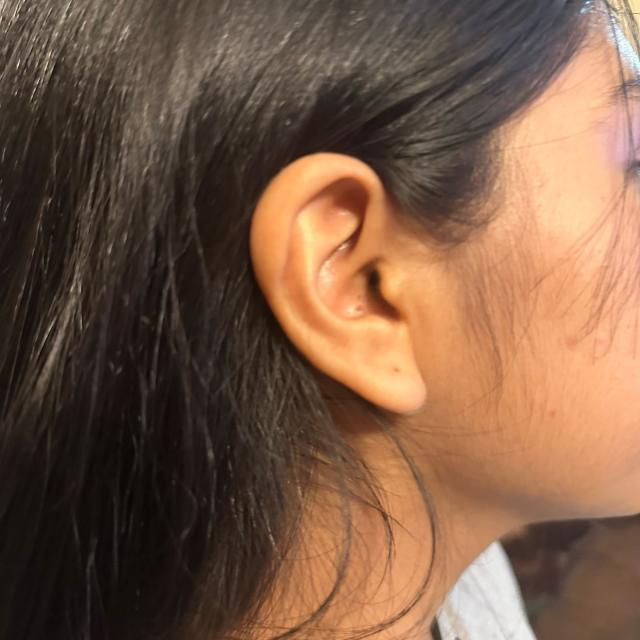ear: (250, 154, 426, 414)
